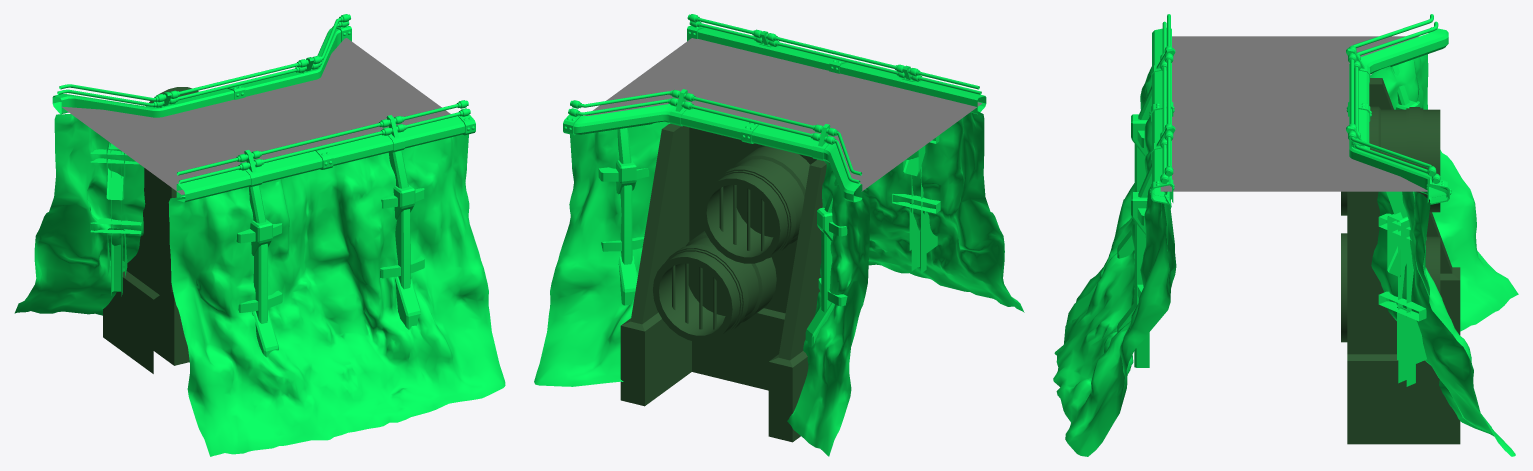
Rendered from Track_06_L.fbx.
3 renders of one model, left to right at view 1: azimuth 30°, elevation 25°; view 2: azimuth 150°, elevation 25°; view 3: azimuth 270°, elevation 25°, orthographic. The views are drawn at different scales.
Visible parts, largest first — view 1: Side_Rock_009, Road_009, side_parts_007; view 2: Side_Rock_009, side_parts_007, Road_009; view 3: Side_Rock_009, Road_009, side_parts_007.
Part boxes in pixels (x1=…): Side_Rock_009: x1=14, y1=14, x2=505, y2=456; Road_009: x1=62, y1=38, x2=450, y2=194; side_parts_007: x1=103, y1=87, x2=198, y2=373; Side_Rock_009: x1=534, y1=14, x2=1024, y2=456; side_parts_007: x1=620, y1=123, x2=832, y2=442; Road_009: x1=586, y1=38, x2=981, y2=191; Side_Rock_009: x1=1053, y1=14, x2=1518, y2=456; Road_009: x1=1160, y1=36, x2=1429, y2=191; side_parts_007: x1=1341, y1=78, x2=1460, y2=444.
Size of what is drawn, in the model's own units: 3159 by 3802 by 2790.
